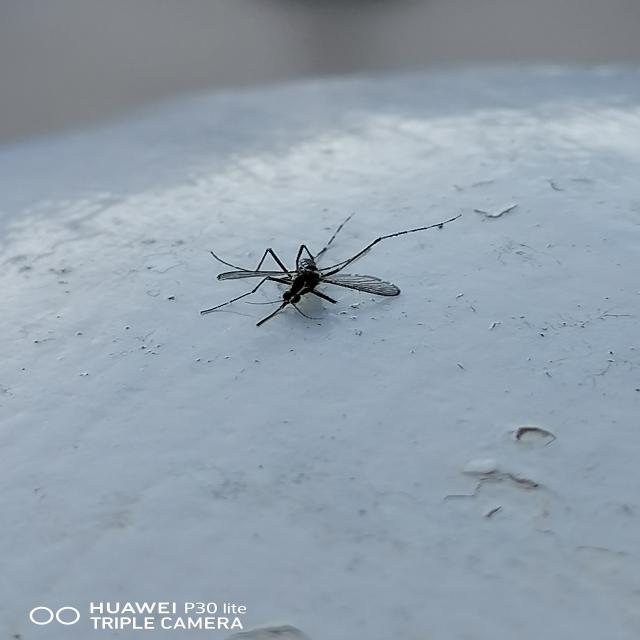albopictus: (195, 200, 460, 331)
